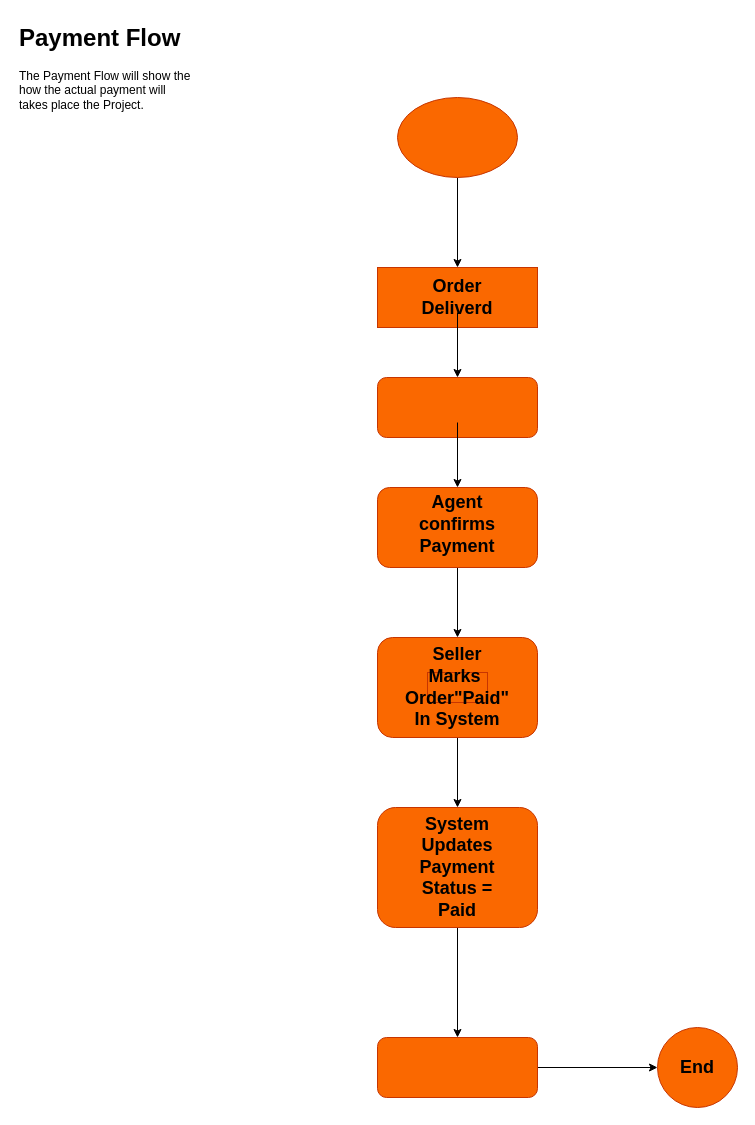
This 755x1125 diagram has some shape labels left out. The centre of each missing label's shape, as x and y in pixels:
"Customer Pays(Cash)" belongs at point (457, 407).
"Reports Upadated" belongs at point (457, 1067).
"Start" belongs at point (457, 137).
